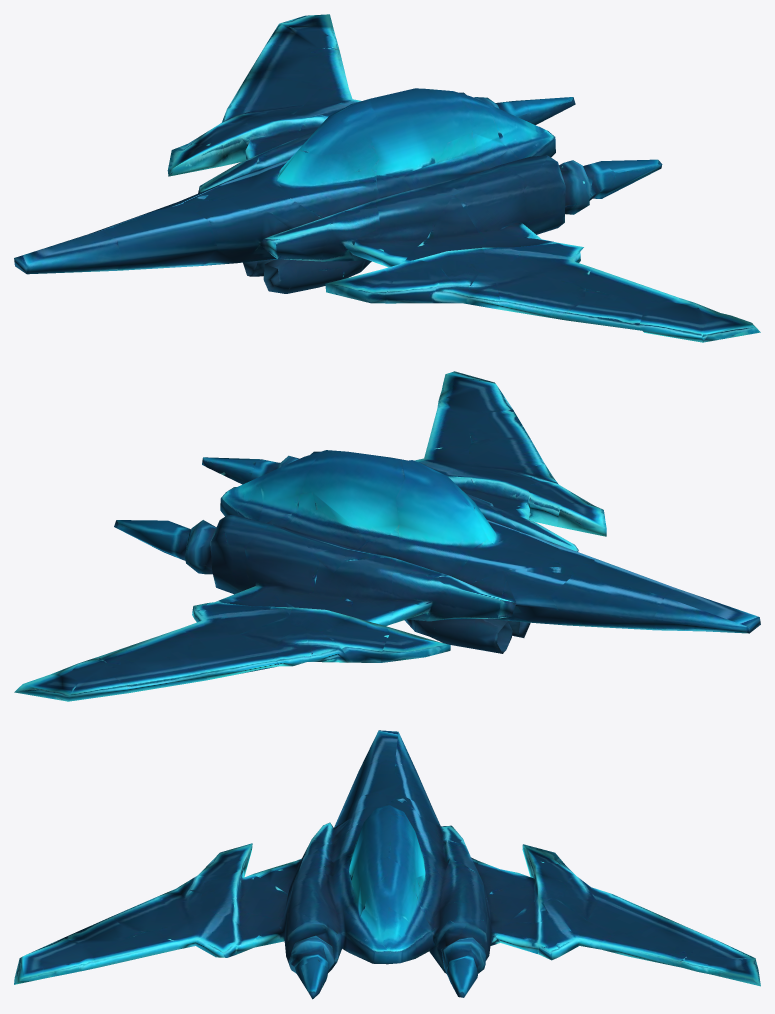
File: star-a.glb
The picture shows the model from 3 angles, top to bottom: view 1: azimuth 30°, elevation 25°; view 2: azimuth 150°, elevation 25°; view 3: azimuth 270°, elevation 25°; orthographic projection. The views are drawn at different scales.
Parts seen in each view (by area): view 1: mesh_node; view 2: mesh_node; view 3: mesh_node.
Part boxes in pixels (<box>): mesh_node: <box>14,14,760,342</box>; mesh_node: <box>14,371,760,701</box>; mesh_node: <box>14,730,760,999</box>.
Size of the model in its own units: 1.51 by 0.3879 by 1.9.
1 material, 1 textured.
